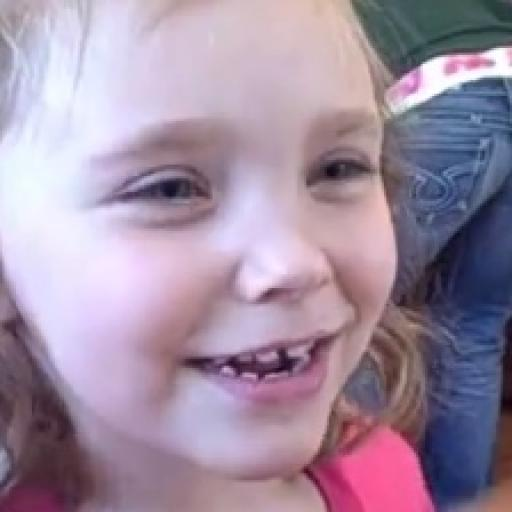Autism: (21, 13, 447, 512)
